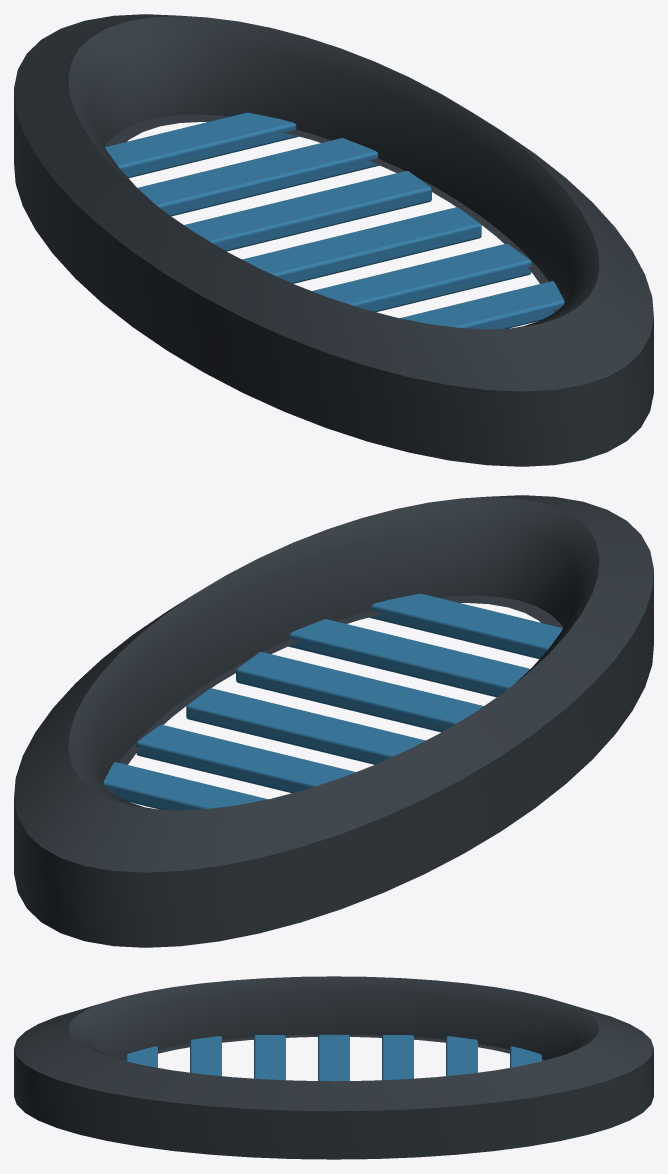
Rendered from curling-club-and-ice-maintenance-shoe-gripper-5d6e7a40__31273.glb.
The picture shows the model from 3 angles, top to bottom: view 1: azimuth 30°, elevation 25°; view 2: azimuth 150°, elevation 25°; view 3: azimuth 270°, elevation 25°; orthographic projection. The views are drawn at different scales.
Parts seen in each view (by area): view 1: shoe-gripper; view 2: shoe-gripper; view 3: shoe-gripper.
Part boxes in pixels (bbox=[...]): shoe-gripper: bbox=[14, 14, 653, 466]; shoe-gripper: bbox=[14, 495, 653, 947]; shoe-gripper: bbox=[14, 976, 653, 1159].
Size of the model in its own units: 0.14 by 0.035 by 0.3.
